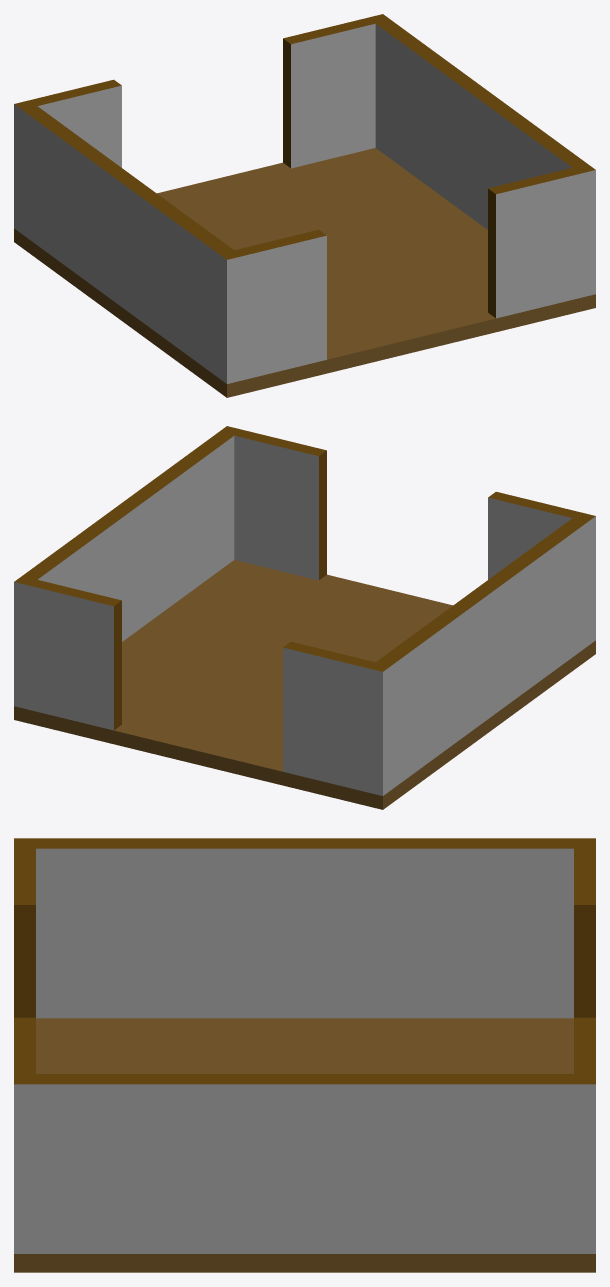
The model's file is floor_section-04.fbx.
The picture shows the model from 3 angles, top to bottom: view 1: azimuth 30°, elevation 25°; view 2: azimuth 150°, elevation 25°; view 3: azimuth 270°, elevation 25°; orthographic projection. The views are drawn at different scales.
Parts seen in each view (by area): view 1: Plane.005; view 2: Plane.005; view 3: Plane.005.
Part boxes in pixels (x1,y1,x2,y2): Plane.005: (14,14,595,397); Plane.005: (14,426,595,809); Plane.005: (14,838,595,1272).
Size of the model in its own units: 600 by 214 by 600.
